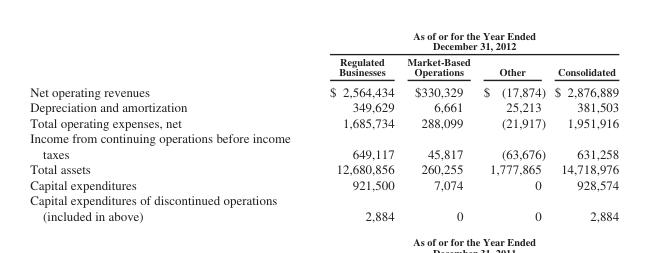table: (29, 29, 618, 222)
table column: (29, 29, 309, 222), (309, 29, 400, 222), (400, 29, 476, 222), (476, 29, 549, 222), (549, 29, 618, 222)
table column header: (29, 29, 618, 80)
table projected row header: (29, 191, 618, 207)
table row: (29, 129, 618, 160), (29, 53, 618, 80), (29, 29, 618, 53), (29, 80, 618, 98), (29, 98, 618, 114), (29, 160, 618, 176), (29, 191, 618, 207), (29, 114, 618, 129), (29, 176, 618, 191), (29, 207, 618, 222)
table spanning cell: (309, 29, 618, 53)
